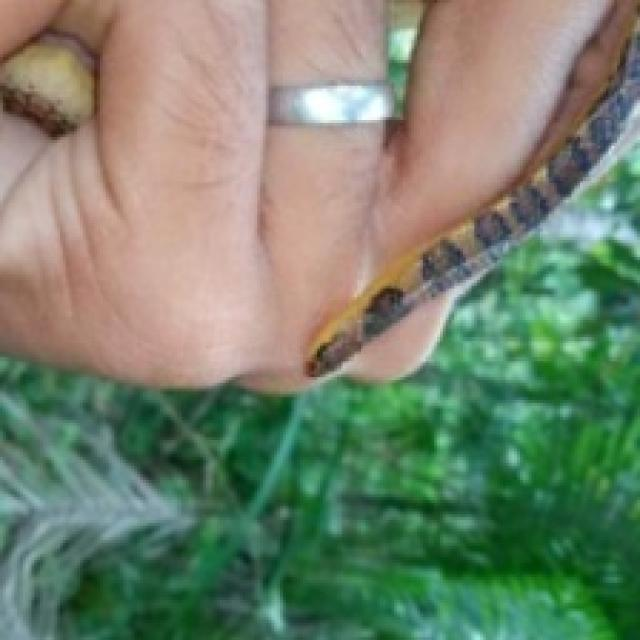luzon dwarf snake: (0, 0, 637, 389), (306, 0, 637, 374)
